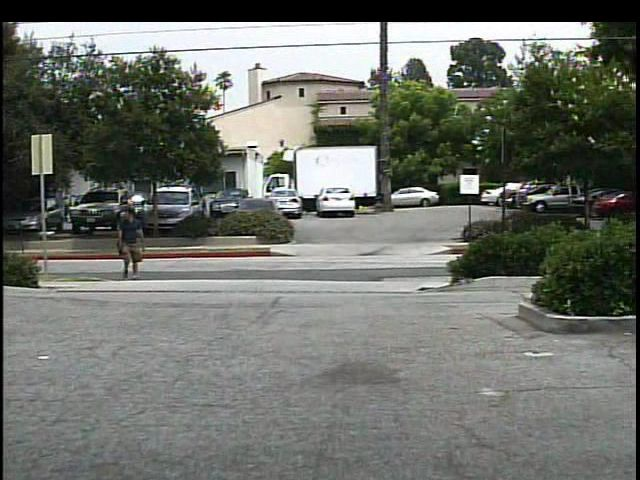person: (114, 207, 148, 284)
